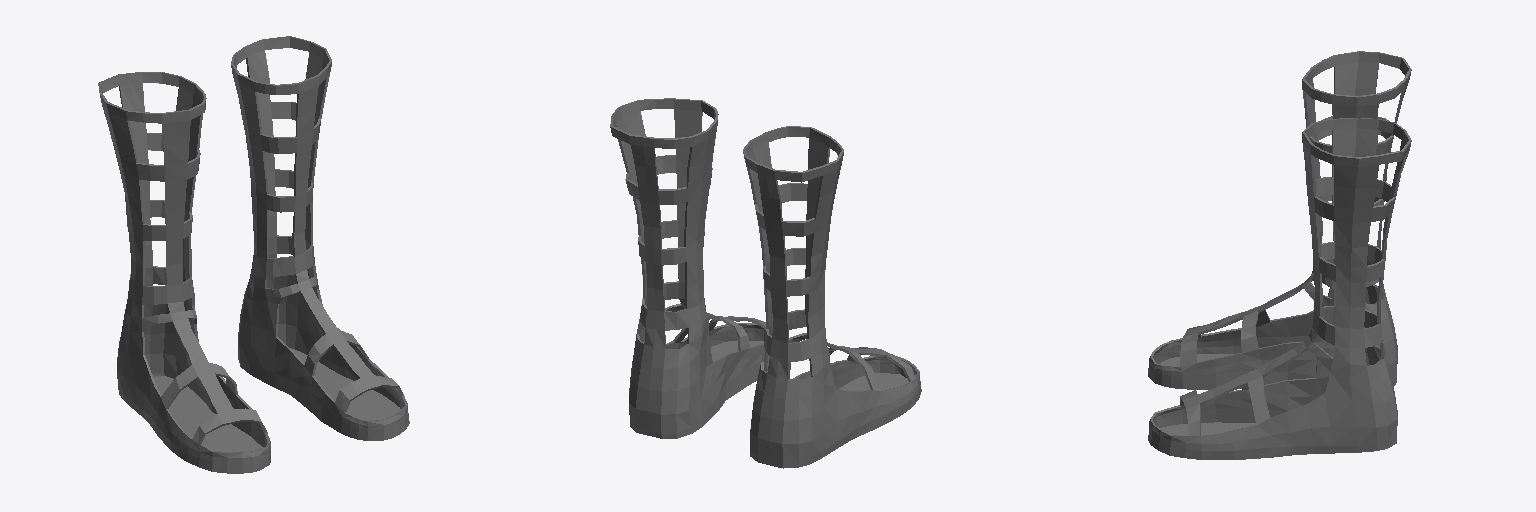
Rendered from LowPoly_Bibliotecaria_Sandalhas.obj.
The picture shows the model from 3 angles: view 1: azimuth 30°, elevation 25°; view 2: azimuth 150°, elevation 25°; view 3: azimuth 270°, elevation 25°; orthographic projection.
Parts seen in each view (by area): view 1: LowPoly_Bibliotecaria_Sandalhas; view 2: LowPoly_Bibliotecaria_Sandalhas; view 3: LowPoly_Bibliotecaria_Sandalhas.
Boxes of the visible parts, x1=… form: LowPoly_Bibliotecaria_Sandalhas: x1=98, y1=36, x2=409, y2=473; LowPoly_Bibliotecaria_Sandalhas: x1=610, y1=98, x2=921, y2=468; LowPoly_Bibliotecaria_Sandalhas: x1=1148, y1=51, x2=1411, y2=459.
Bounding box in the file's own units: 27.44 × 36.14 × 28.39.